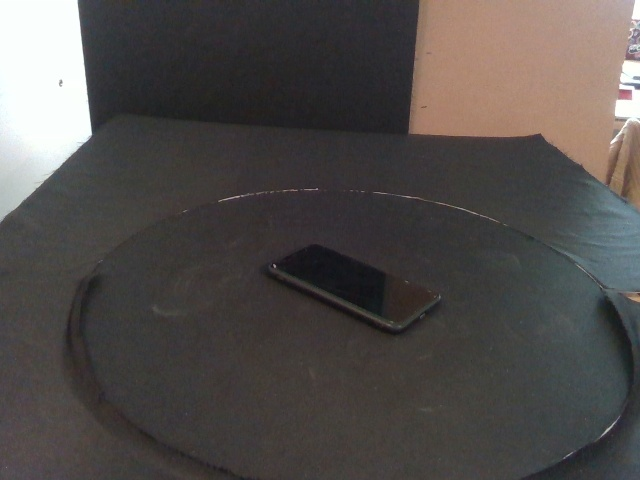phone: (268, 242, 443, 335)
